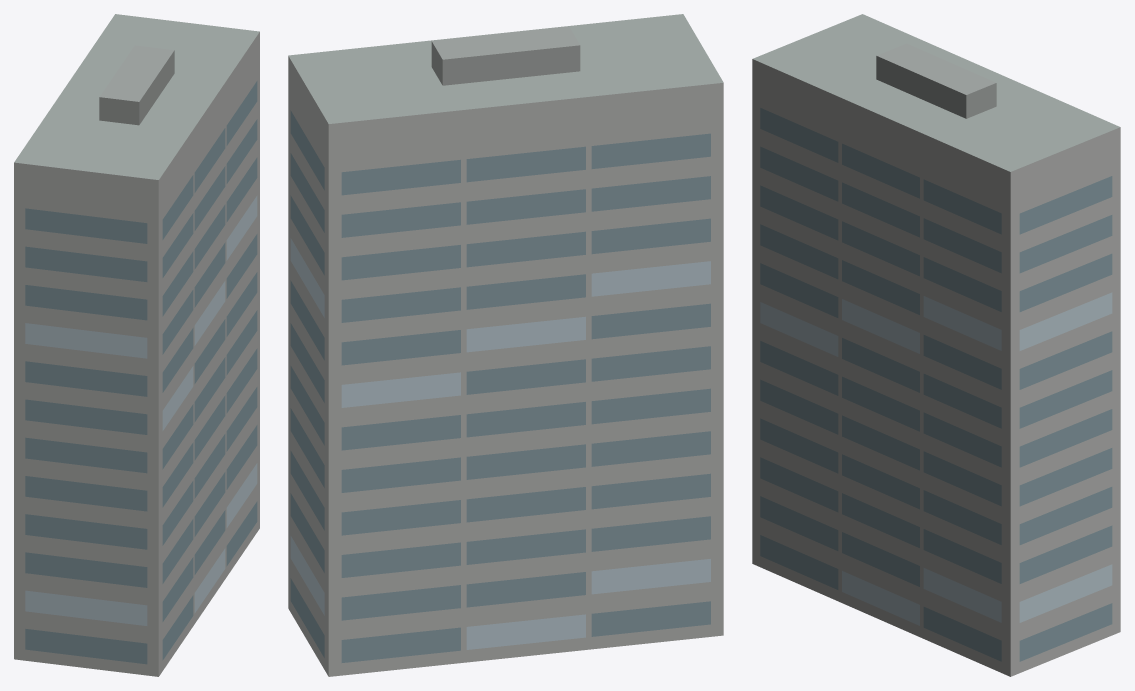
File: fallback-dmc-raemian-e-pyeonhansesang-404.glb
3 views of the same model, side by side, from view 1: azimuth 30°, elevation 25°; view 2: azimuth 150°, elevation 25°; view 3: azimuth 270°, elevation 25° (orthographic). The views are drawn at different scales.
Parts seen in each view (by area): view 1: fallback-dmc-raemian-e-pyeonhansesang-404; view 2: fallback-dmc-raemian-e-pyeonhansesang-404; view 3: fallback-dmc-raemian-e-pyeonhansesang-404.
Boxes of the visible parts, x1=… form: fallback-dmc-raemian-e-pyeonhansesang-404: x1=14, y1=14, x2=259, y2=676; fallback-dmc-raemian-e-pyeonhansesang-404: x1=288, y1=14, x2=723, y2=676; fallback-dmc-raemian-e-pyeonhansesang-404: x1=752, y1=14, x2=1120, y2=676.
Size of the model in its own units: 25.65 by 40 by 25.25.
